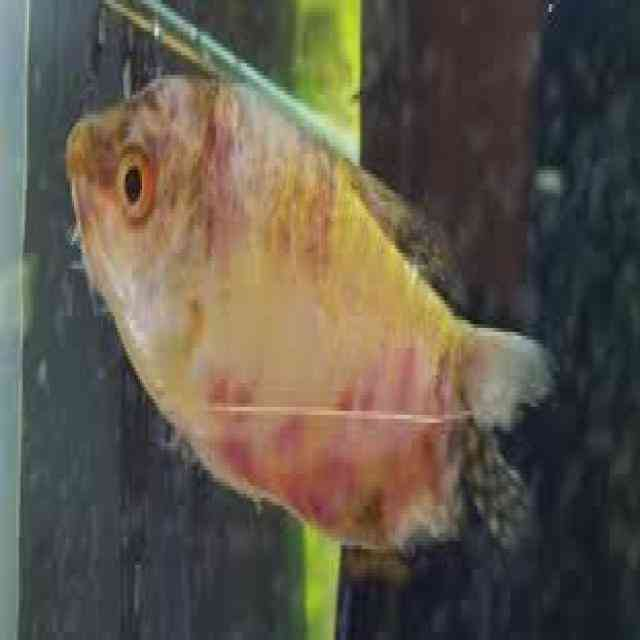EUS Disease: (66, 84, 548, 547), (195, 363, 477, 530), (200, 95, 363, 275)
